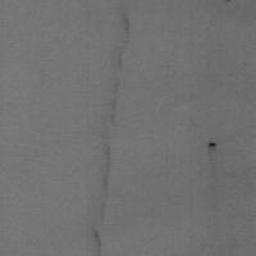Inclusion: (86, 8, 134, 256), (207, 141, 218, 148)
